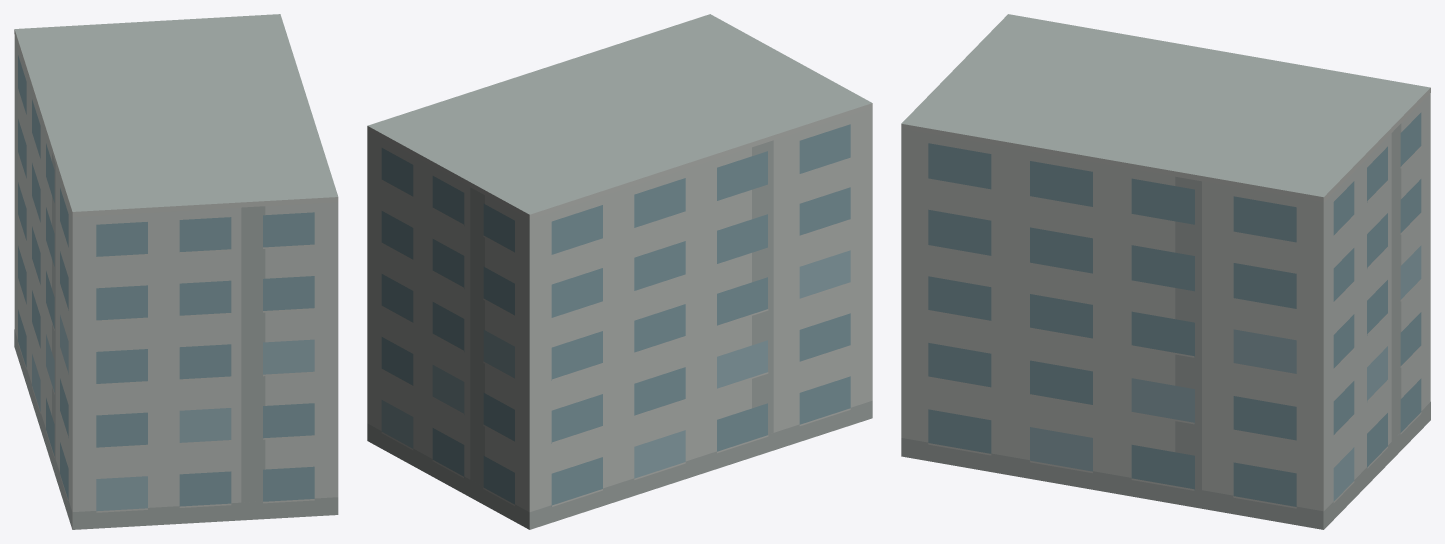
File: residential-461f0634-acf5-4fe2-82f8-7ab364067f55.glb
3 views of the same model, side by side, from view 1: azimuth 30°, elevation 25°; view 2: azimuth 150°, elevation 25°; view 3: azimuth 270°, elevation 25° (orthographic). The views are drawn at different scales.
Visible parts, largest first — view 1: residential-461f0634-acf5-4fe2-82f8-7ab364067f55.tmp; view 2: residential-461f0634-acf5-4fe2-82f8-7ab364067f55.tmp; view 3: residential-461f0634-acf5-4fe2-82f8-7ab364067f55.tmp.
Boxes of the visible parts, bbox=[...] form: residential-461f0634-acf5-4fe2-82f8-7ab364067f55.tmp: bbox=[14, 14, 338, 529]; residential-461f0634-acf5-4fe2-82f8-7ab364067f55.tmp: bbox=[367, 14, 872, 529]; residential-461f0634-acf5-4fe2-82f8-7ab364067f55.tmp: bbox=[901, 14, 1430, 529].
Bounding box in the file's own units: 18.02 × 15.25 × 22.01.
